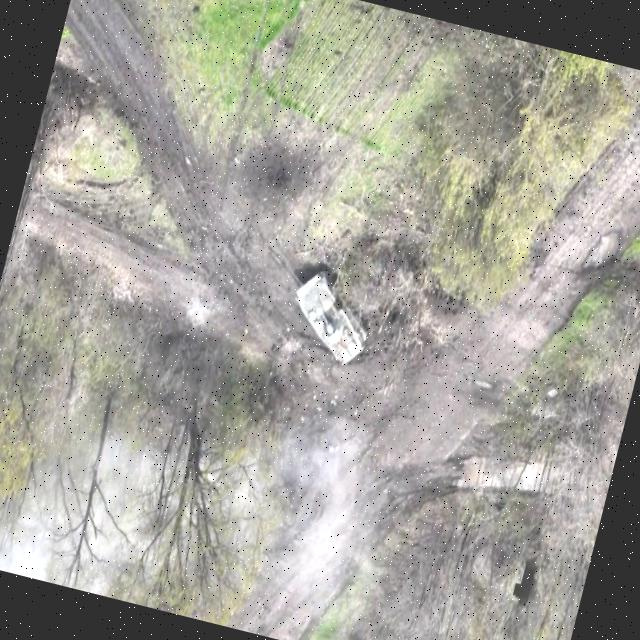AIFV: (268, 256, 385, 374)
